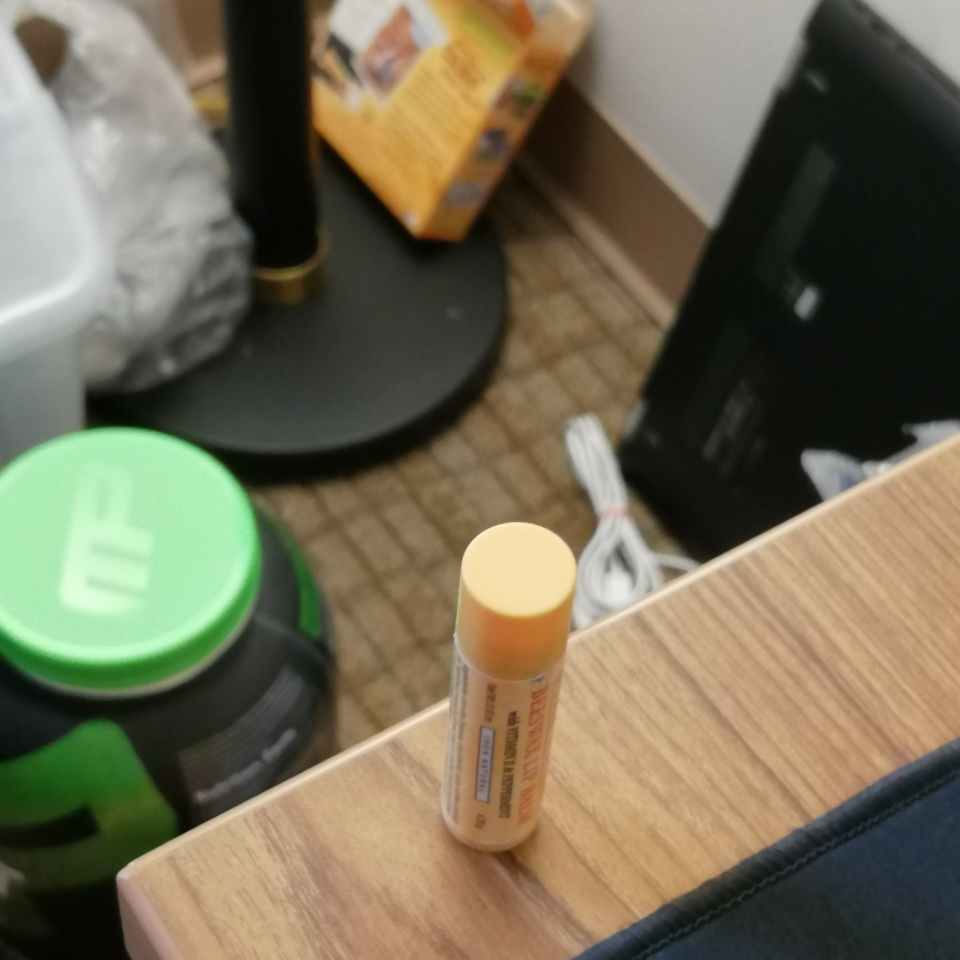chapstick: (441, 520, 579, 854)
